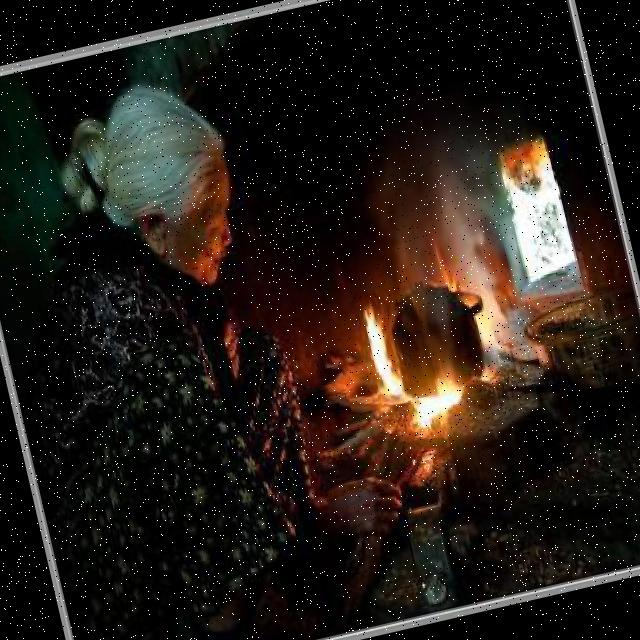fire: (323, 276, 408, 414)
